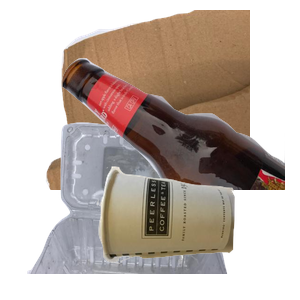cardboard: (43, 10, 283, 190)
glass: (60, 56, 300, 236)
plastic: (25, 120, 245, 300)
trash: (95, 164, 300, 300)
